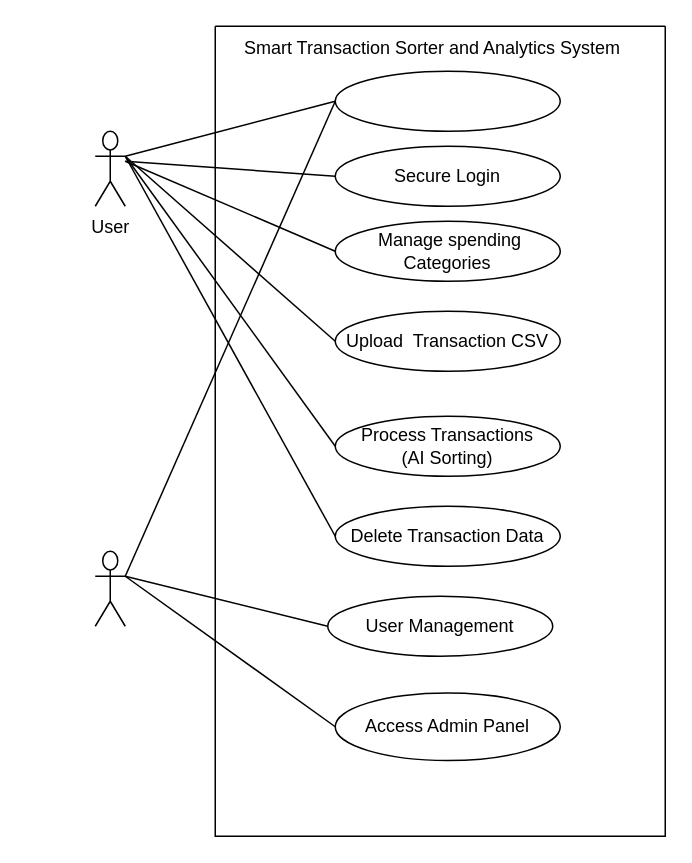
This 692x863 diagram has some shape labels left out. The shapes that lost their labels are listed below. From the top down, each one's centre as x and y in pixels, then its label:
At (x=447, y=100): "User Registration".
At (x=109, y=588): "System Administrator".
